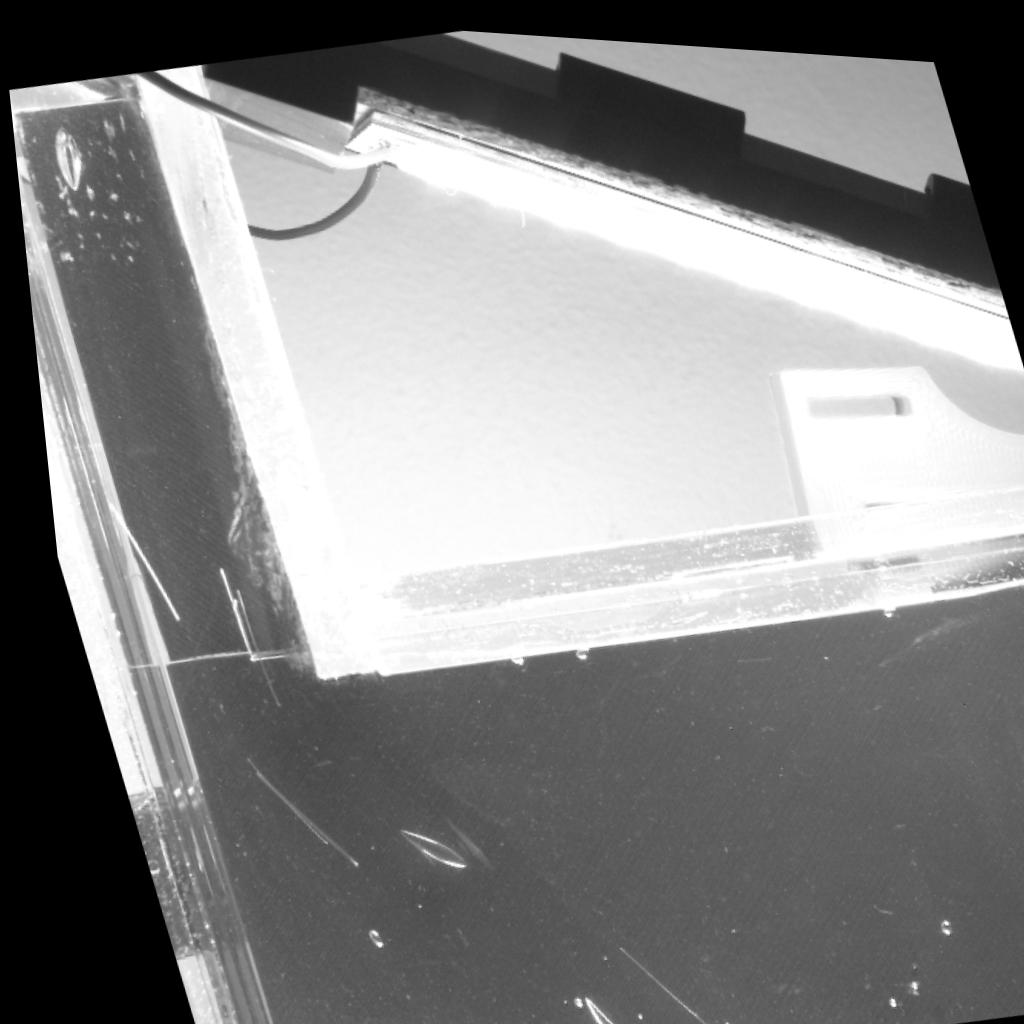Fiber: (233, 764, 342, 871), (95, 497, 168, 624), (594, 936, 695, 1024), (225, 754, 312, 847), (221, 585, 270, 707), (205, 560, 242, 670), (560, 987, 603, 1024), (562, 995, 587, 1024)
